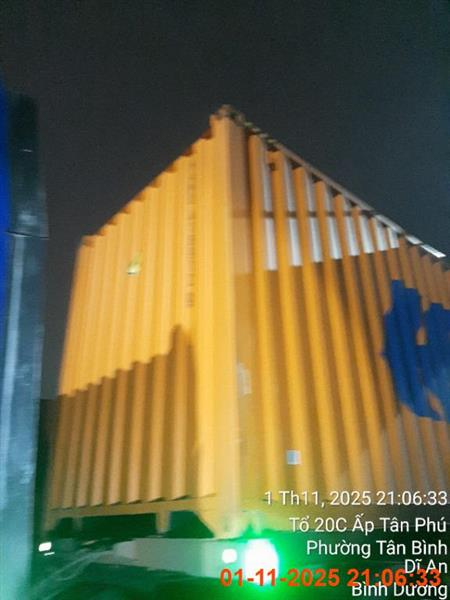broken: (31, 110, 449, 597)
